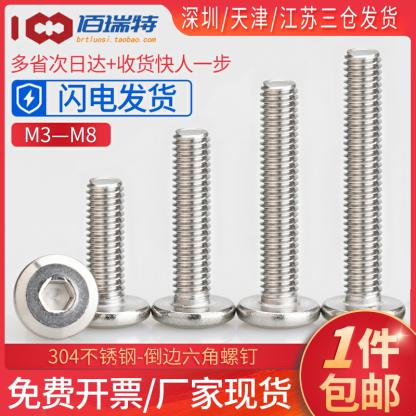FOD: (322, 47, 410, 328), (234, 80, 322, 331), (149, 124, 235, 330), (60, 176, 152, 324), (12, 257, 99, 341)
